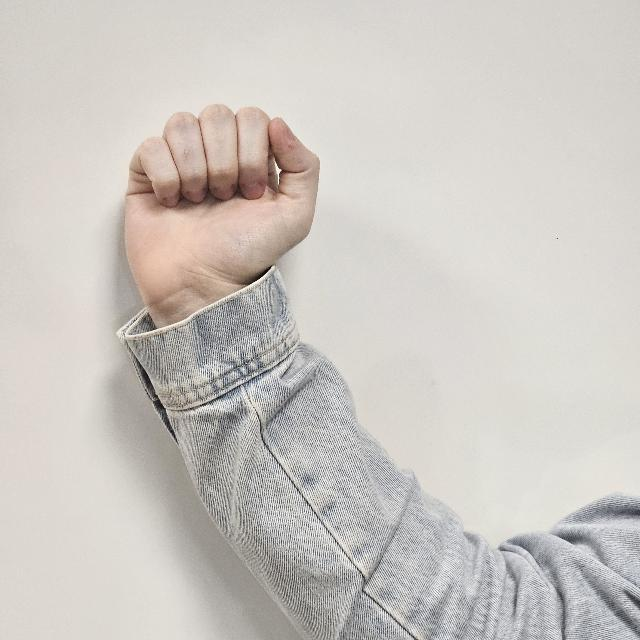Quadro: (125, 102, 329, 312)
